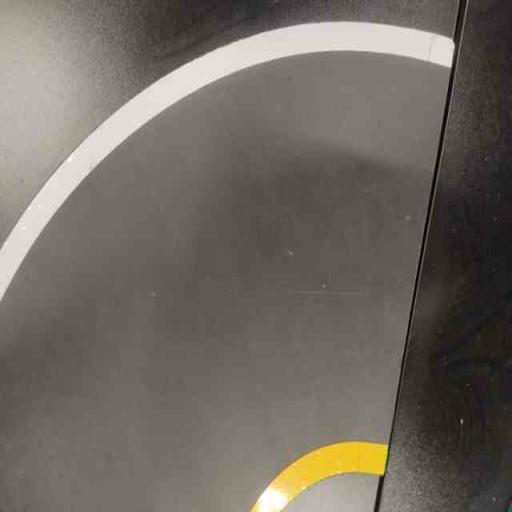left: (0, 7, 467, 511)
